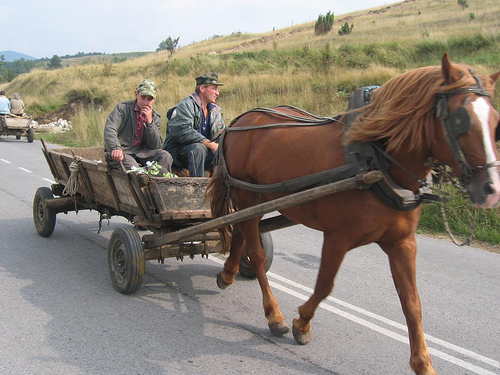horse: (203, 53, 500, 368)
